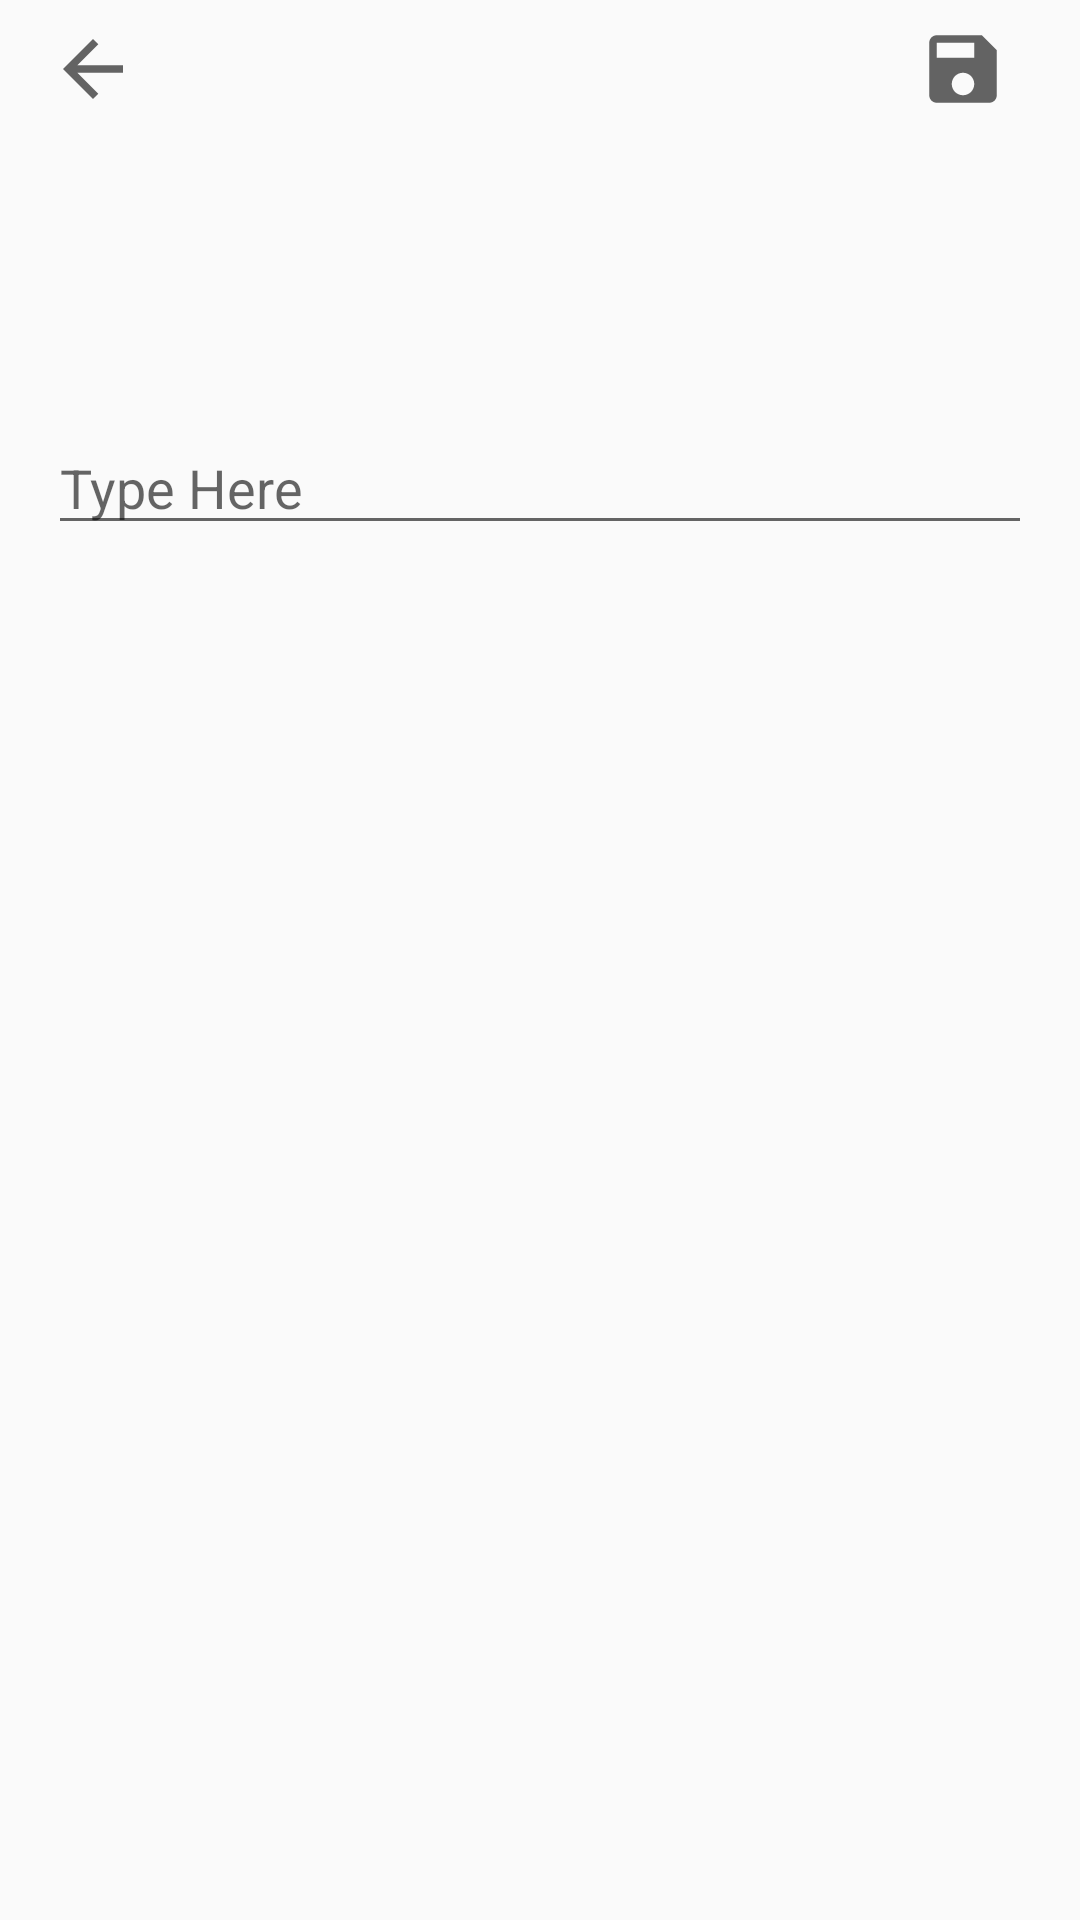

Icons on this 1080×1920 Android screen, each with its box as (x1, y1, x2, y2):
arrow back: (63, 39, 123, 99)
save: (929, 35, 997, 103)
